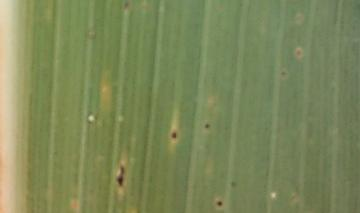tarspot: (113, 162, 128, 188), (292, 46, 306, 59), (168, 129, 180, 143), (227, 177, 238, 191), (214, 196, 225, 209), (202, 121, 211, 131), (278, 70, 288, 79)
